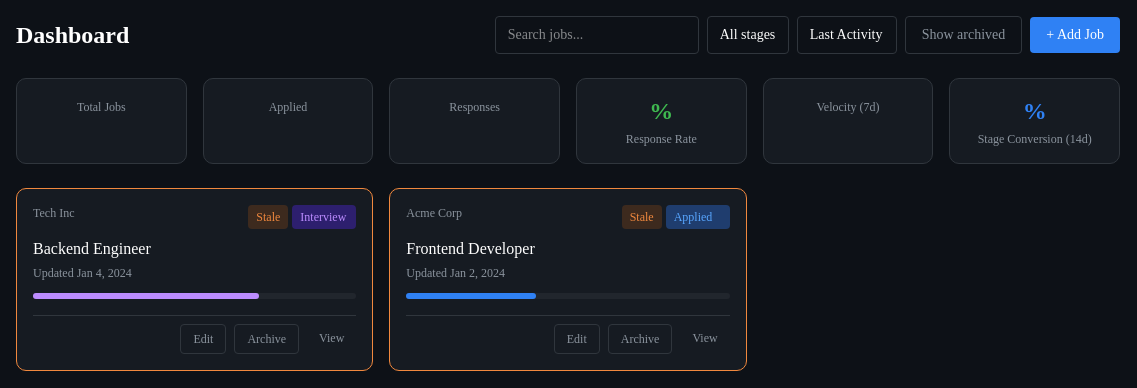
Test: DashboardPage - S2-001 Job Search › filters jobs by company
This screenshot has width=1137, height=388.
Type "Tech Inc" into the field with placeholder "Search jobs...". click: point(597, 35)
box: [495, 16, 699, 54]
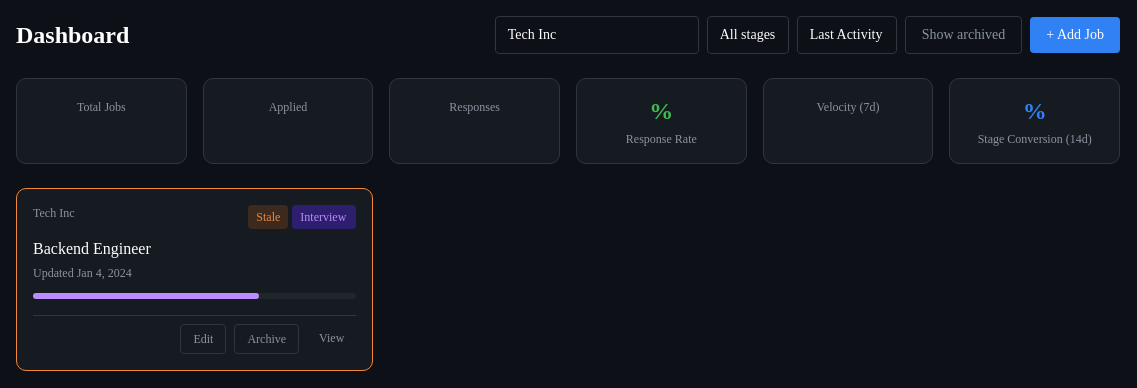
Expected: the heading "Backend Engineer" is shown, [33, 240, 151, 257]
Expected: the link "Frontend Developer" is gone
